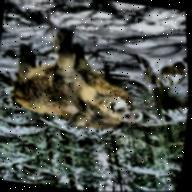boar: (3, 19, 163, 150)
